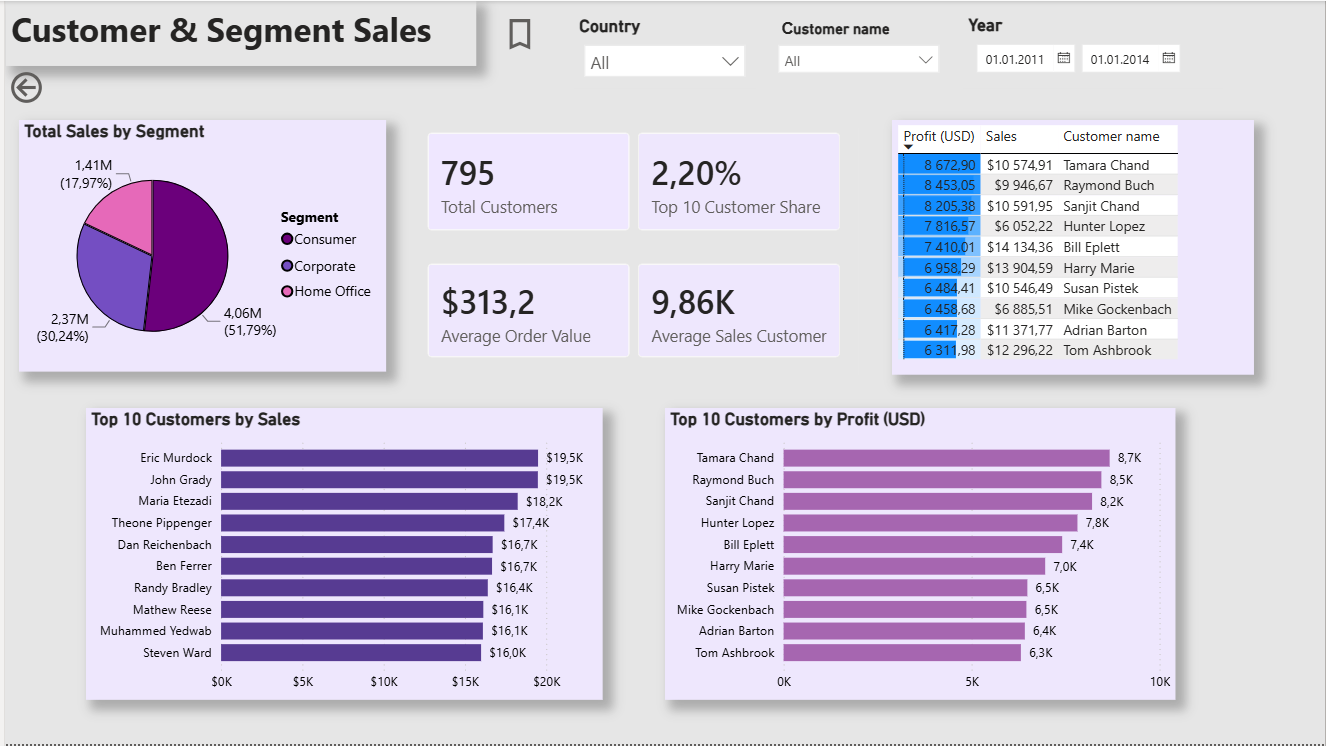

Layout of this report page (visuals, bound fields, positions):
{"tool":"powerbi","page":{"name":"Customers Sales","canvas":[1280,720],"ordinal":2},"visuals":[{"type":"barChart","title":"Top 10 Customers by Sales","fields":{"Y":["Sum(SuperStoreOrders.sales_number)"],"Category":["SuperStoreOrders.customer_name"]},"box":[78.5,394.7,501.3,283.2],"z":0},{"type":"pieChart","title":"Total Sales by Segment","fields":{"Category":["SuperStoreOrders.segment"],"Y":["SuperStoreOrders.Total Sales"]},"box":[13.6,115.4,355.9,244.4],"z":1000},{"type":"textbox","box":[1,0,455.8,63],"z":2000},{"type":"cardVisual","fields":{"Data":["SuperStoreOrders.Total Customers","SuperStoreOrders.Top 10 Customer Share"]},"box":[392.7,110.5,435.4,129.9],"z":3000},{"type":"actionButton","box":[1,64,99.9,39.8],"z":4000},{"type":"slicer","title":"Year","fields":{"Values":["SuperStoreOrders.year"]},"box":[929,12.6,252.1,71.8],"z":5000},{"type":"clusteredBarChart","title":"Top 10 Customers by Profit (USD)","fields":{"Category":["SuperStoreOrders.customer_name"],"Y":["Sum(SuperStoreOrders.profit_number)"]},"box":[640,394.7,494.5,283.2],"z":6000},{"type":"slicer","fields":{"Values":["SuperStoreOrders.customer_name"]},"box":[739.9,12.6,175.5,85.3],"z":7000},{"type":"tableEx","fields":{"Values":["Sum(SuperStoreOrders.profit_number)","Sum(SuperStoreOrders.sales_number)","SuperStoreOrders.customer_name"]},"box":[860.1,115.4,351,247.3],"z":8000},{"type":"actionButton","box":[480,12.6,99.9,38.8],"z":9000},{"type":"cardVisual","fields":{"Data":["SuperStoreOrders.Average Order Value","SuperStoreOrders.Avg Sales Customer"]},"box":[392.7,237.6,435.4,125.1],"z":10000},{"type":"slicer","title":"Country","fields":{"Values":["SuperStoreOrders.country"]},"box":[551.8,13.6,175.5,70.8],"z":11000}]}

Visuals, with their boxes in screenshot pixels (x1, y1, x2, y2), scaled from the page's 1280x720 canvas onto the 1326x746 screenshot:
"Top 10 Customers by Sales" barChart: x1=81, y1=409, x2=601, y2=702
"Total Sales by Segment" pieChart: x1=14, y1=120, x2=383, y2=373
textbox: x1=1, y1=0, x2=473, y2=65
cardVisual - SuperStoreOrders.Total Customers x SuperStoreOrders.Top 10 Customer Share: x1=407, y1=114, x2=858, y2=249
actionButton: x1=1, y1=66, x2=105, y2=108
"Year" slicer: x1=962, y1=13, x2=1224, y2=87
"Top 10 Customers by Profit (USD)" clusteredBarChart: x1=663, y1=409, x2=1175, y2=702
slicer - SuperStoreOrders.customer_name: x1=766, y1=13, x2=948, y2=101
tableEx - Sum(SuperStoreOrders.profit_number) x Sum(SuperStoreOrders.sales_number): x1=891, y1=120, x2=1255, y2=376
actionButton: x1=497, y1=13, x2=601, y2=53
cardVisual - SuperStoreOrders.Average Order Value x SuperStoreOrders.Avg Sales Customer: x1=407, y1=246, x2=858, y2=376
"Country" slicer: x1=572, y1=14, x2=753, y2=87
